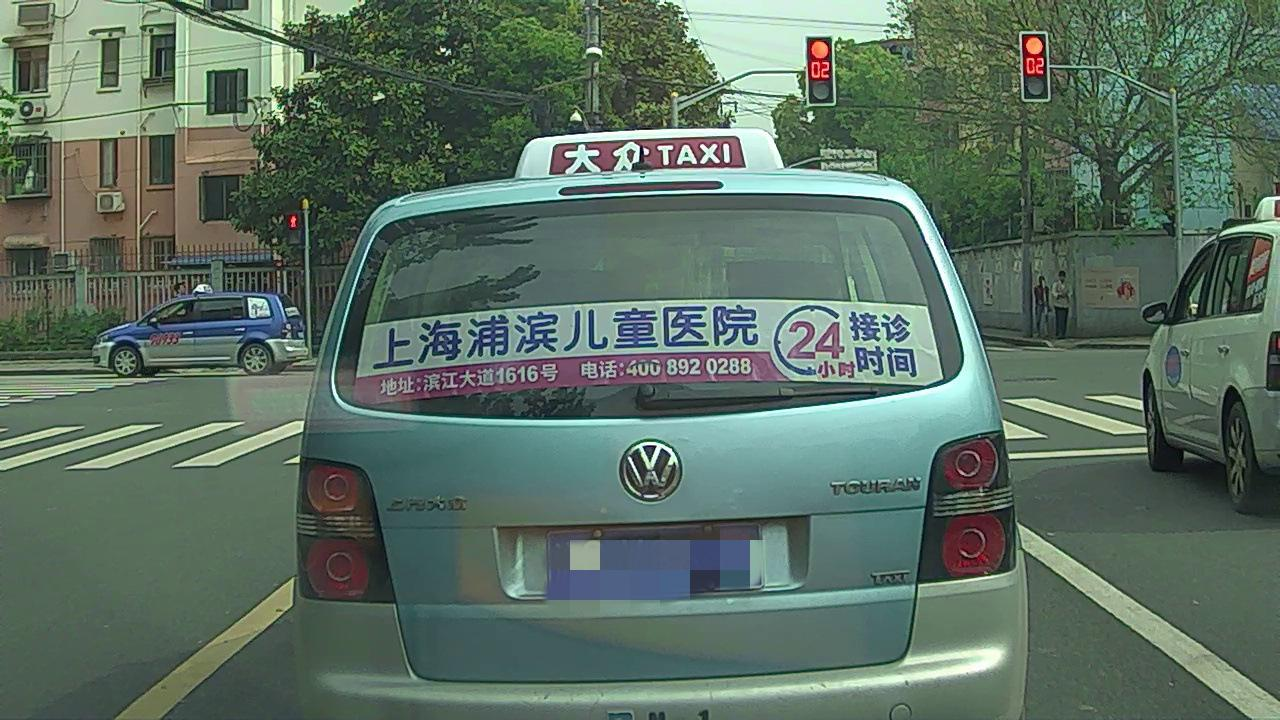traffic_light: (1021, 33, 1049, 98), (810, 38, 834, 104)
